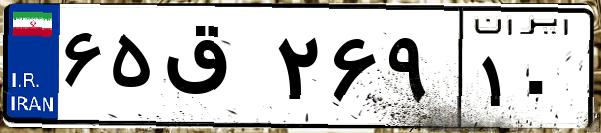0: (525, 38, 570, 115)
1: (475, 38, 525, 113)
2: (270, 28, 330, 110)
5: (110, 28, 158, 98)
6: (330, 28, 385, 110), (57, 26, 110, 100)
9: (385, 28, 445, 110)
ق: (158, 20, 270, 120)
